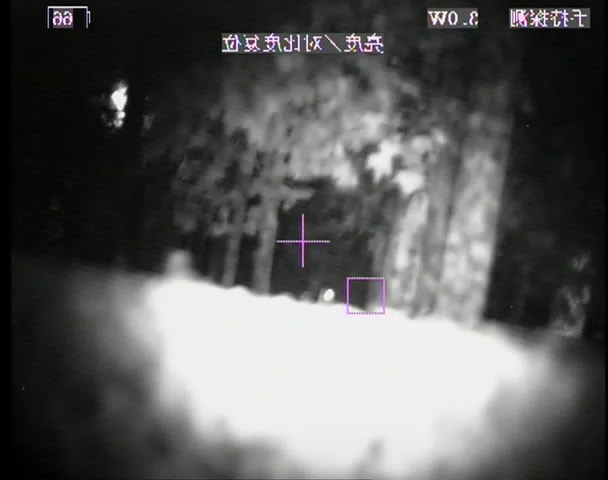my: (321, 287, 337, 302)
